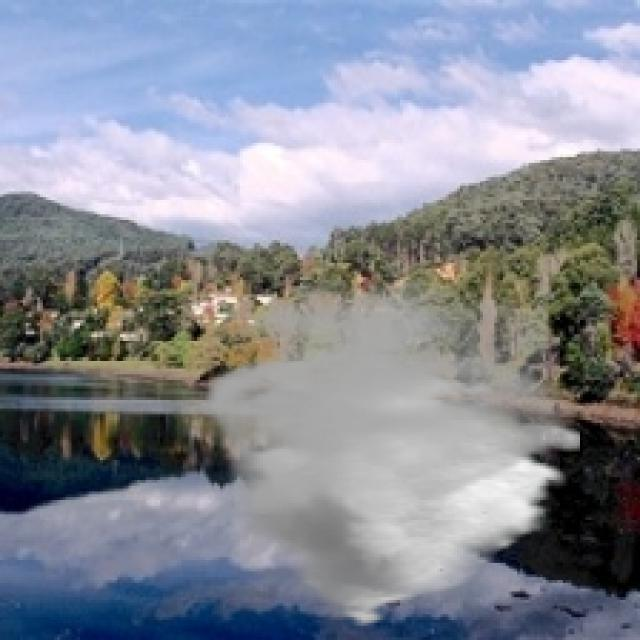smoke: (197, 277, 580, 629)
